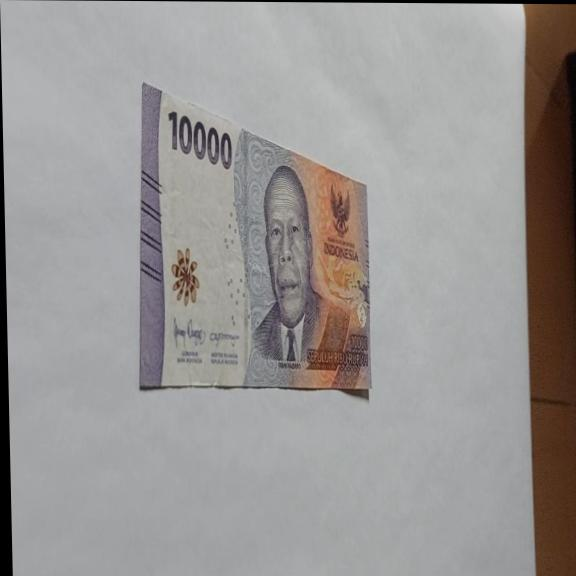Kertas: (132, 80, 374, 395), (167, 108, 233, 171)
